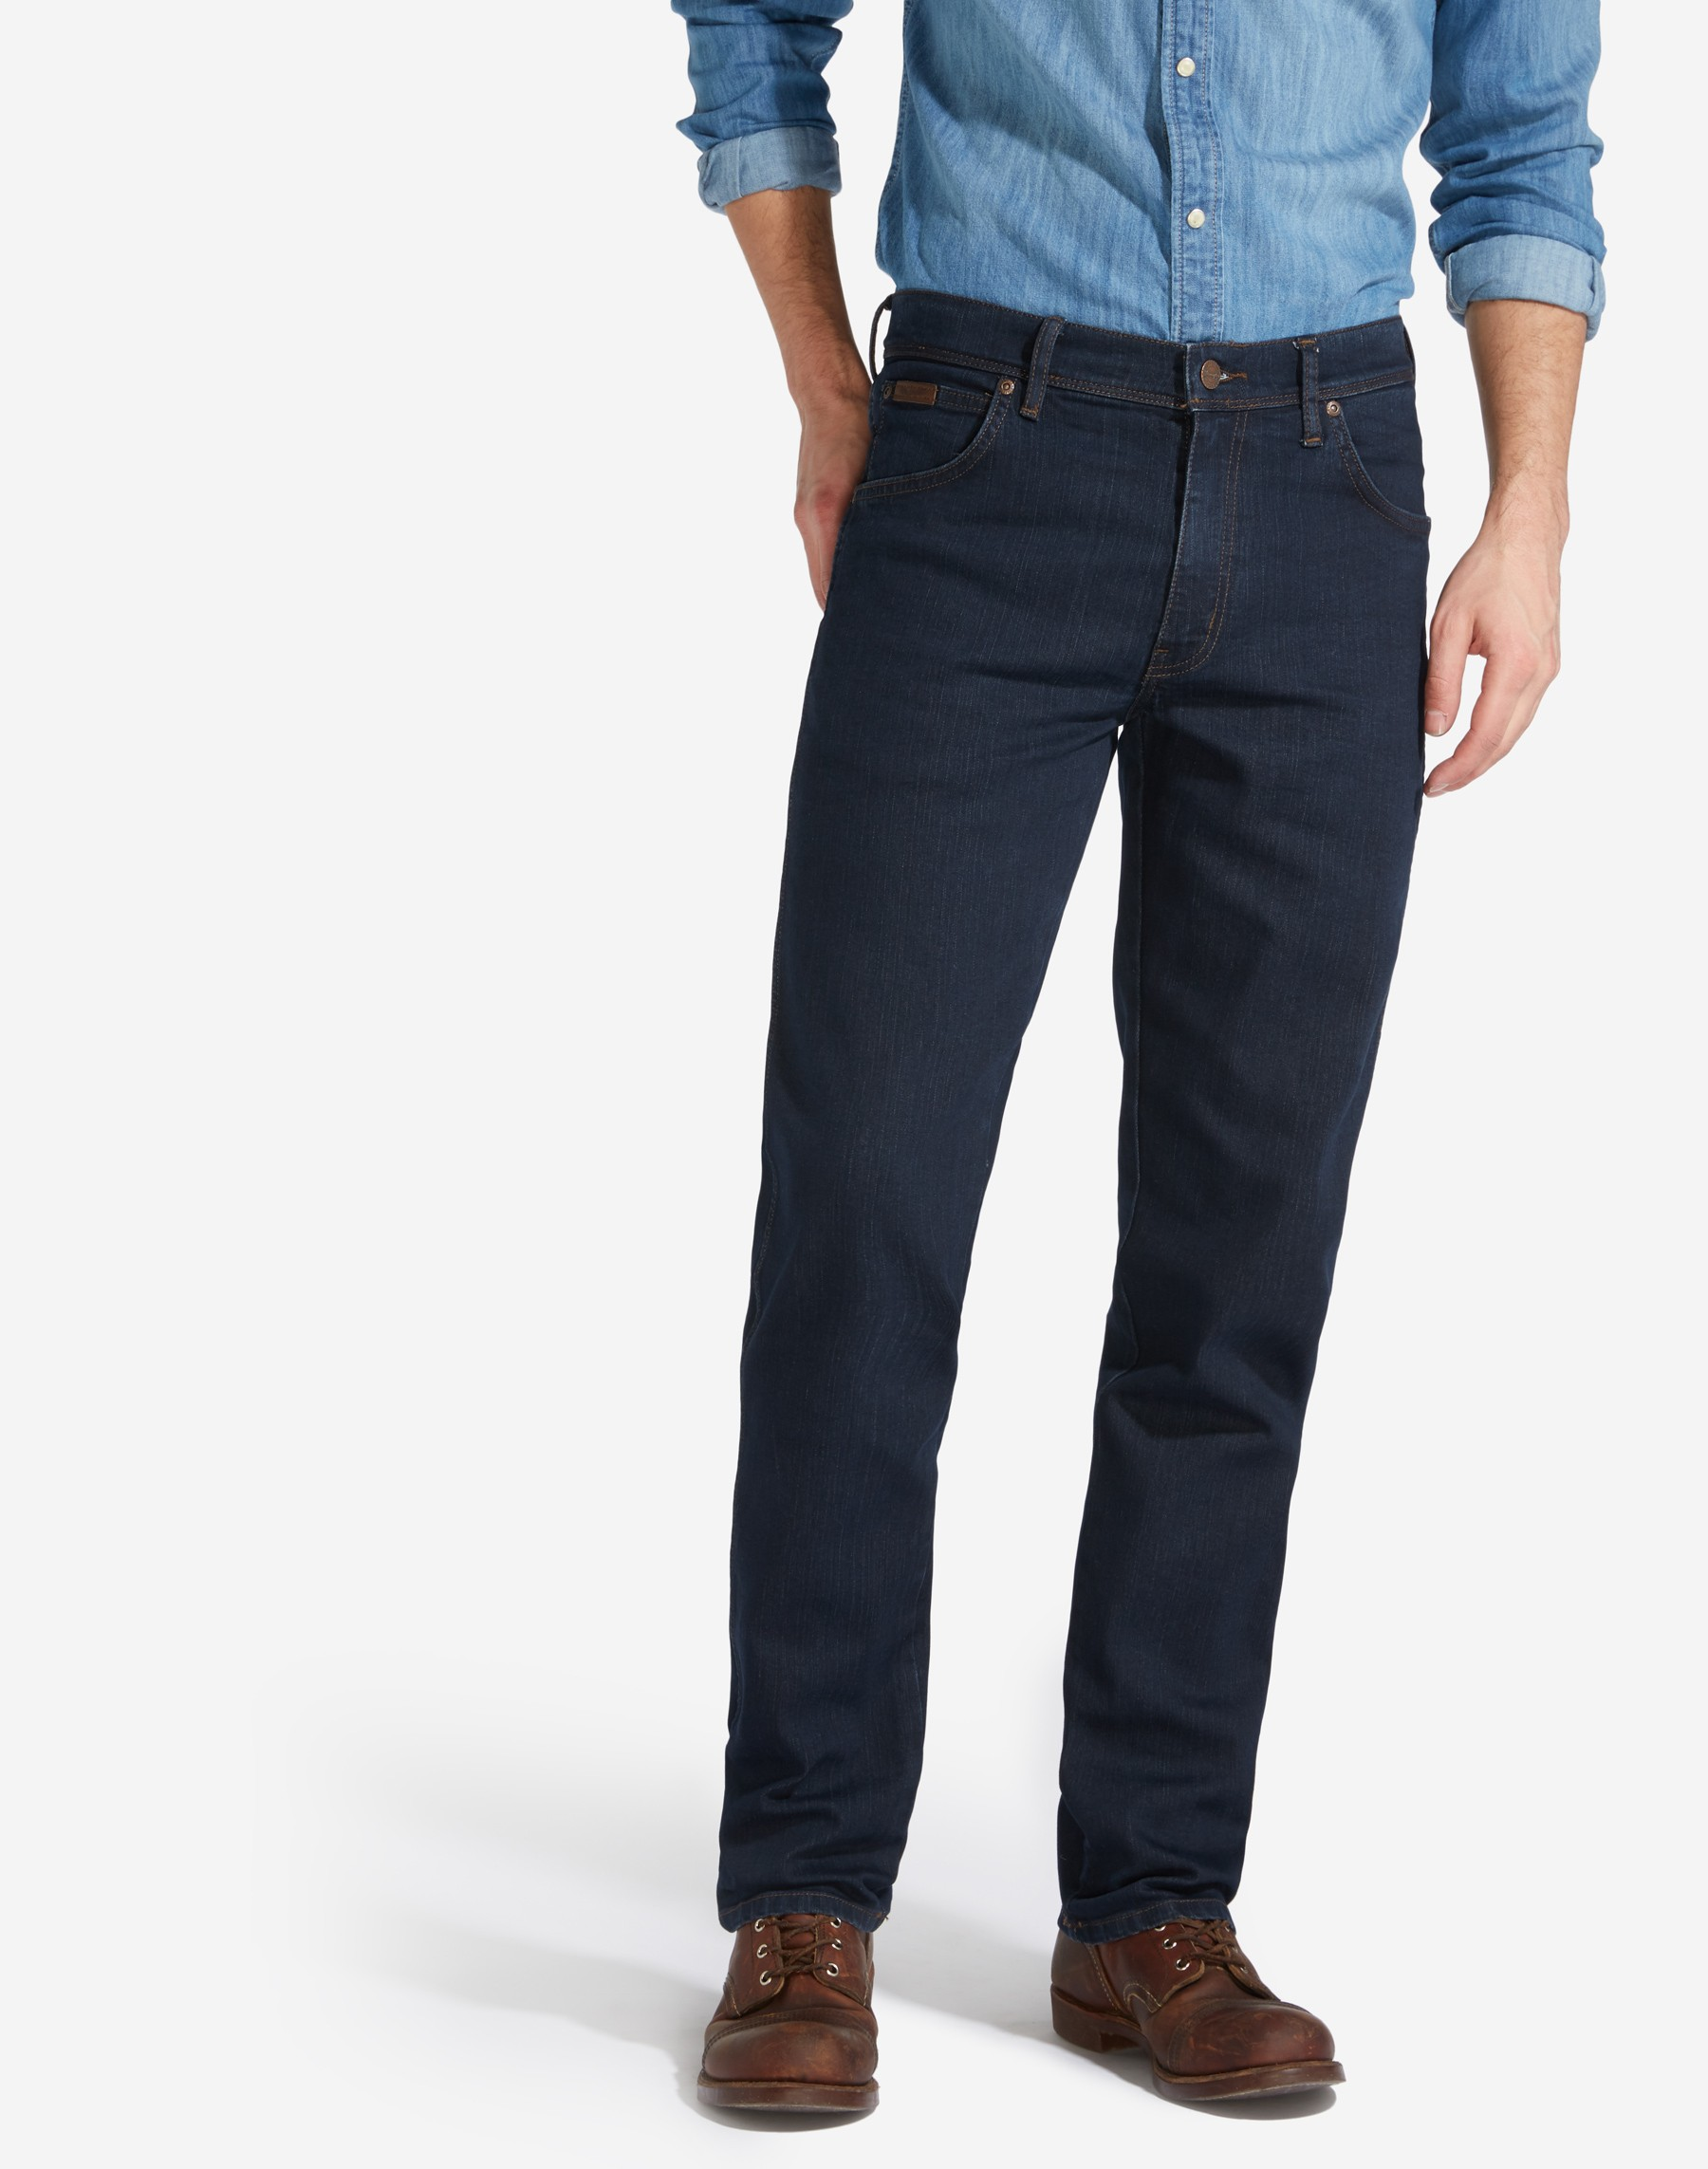jeans: (724, 320, 1432, 1981)
